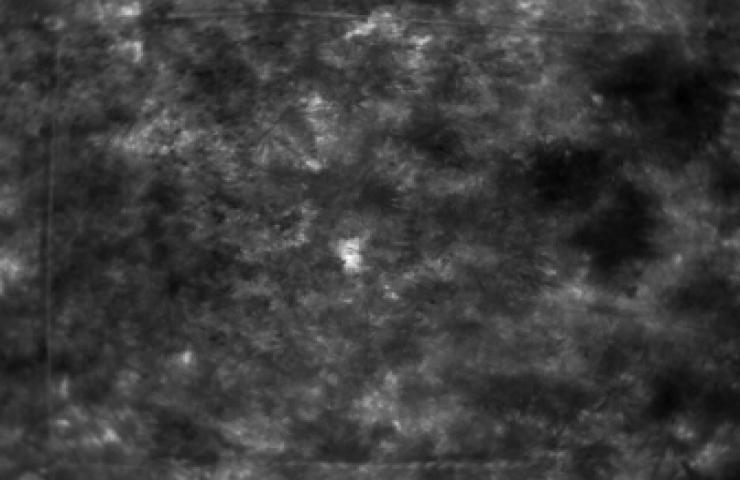landmines: (332, 234, 374, 270)
